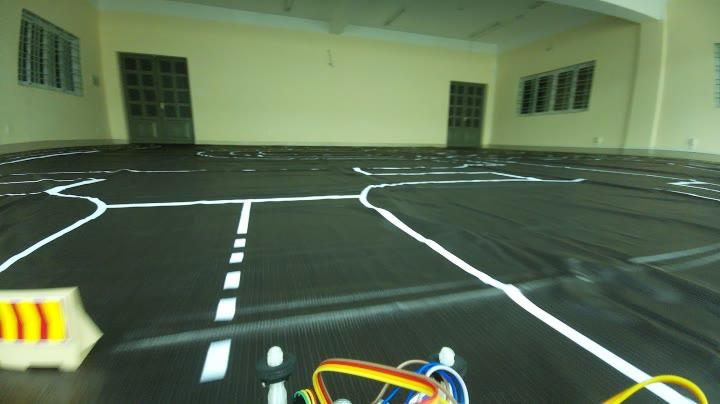roadblock: (3, 286, 99, 369)
